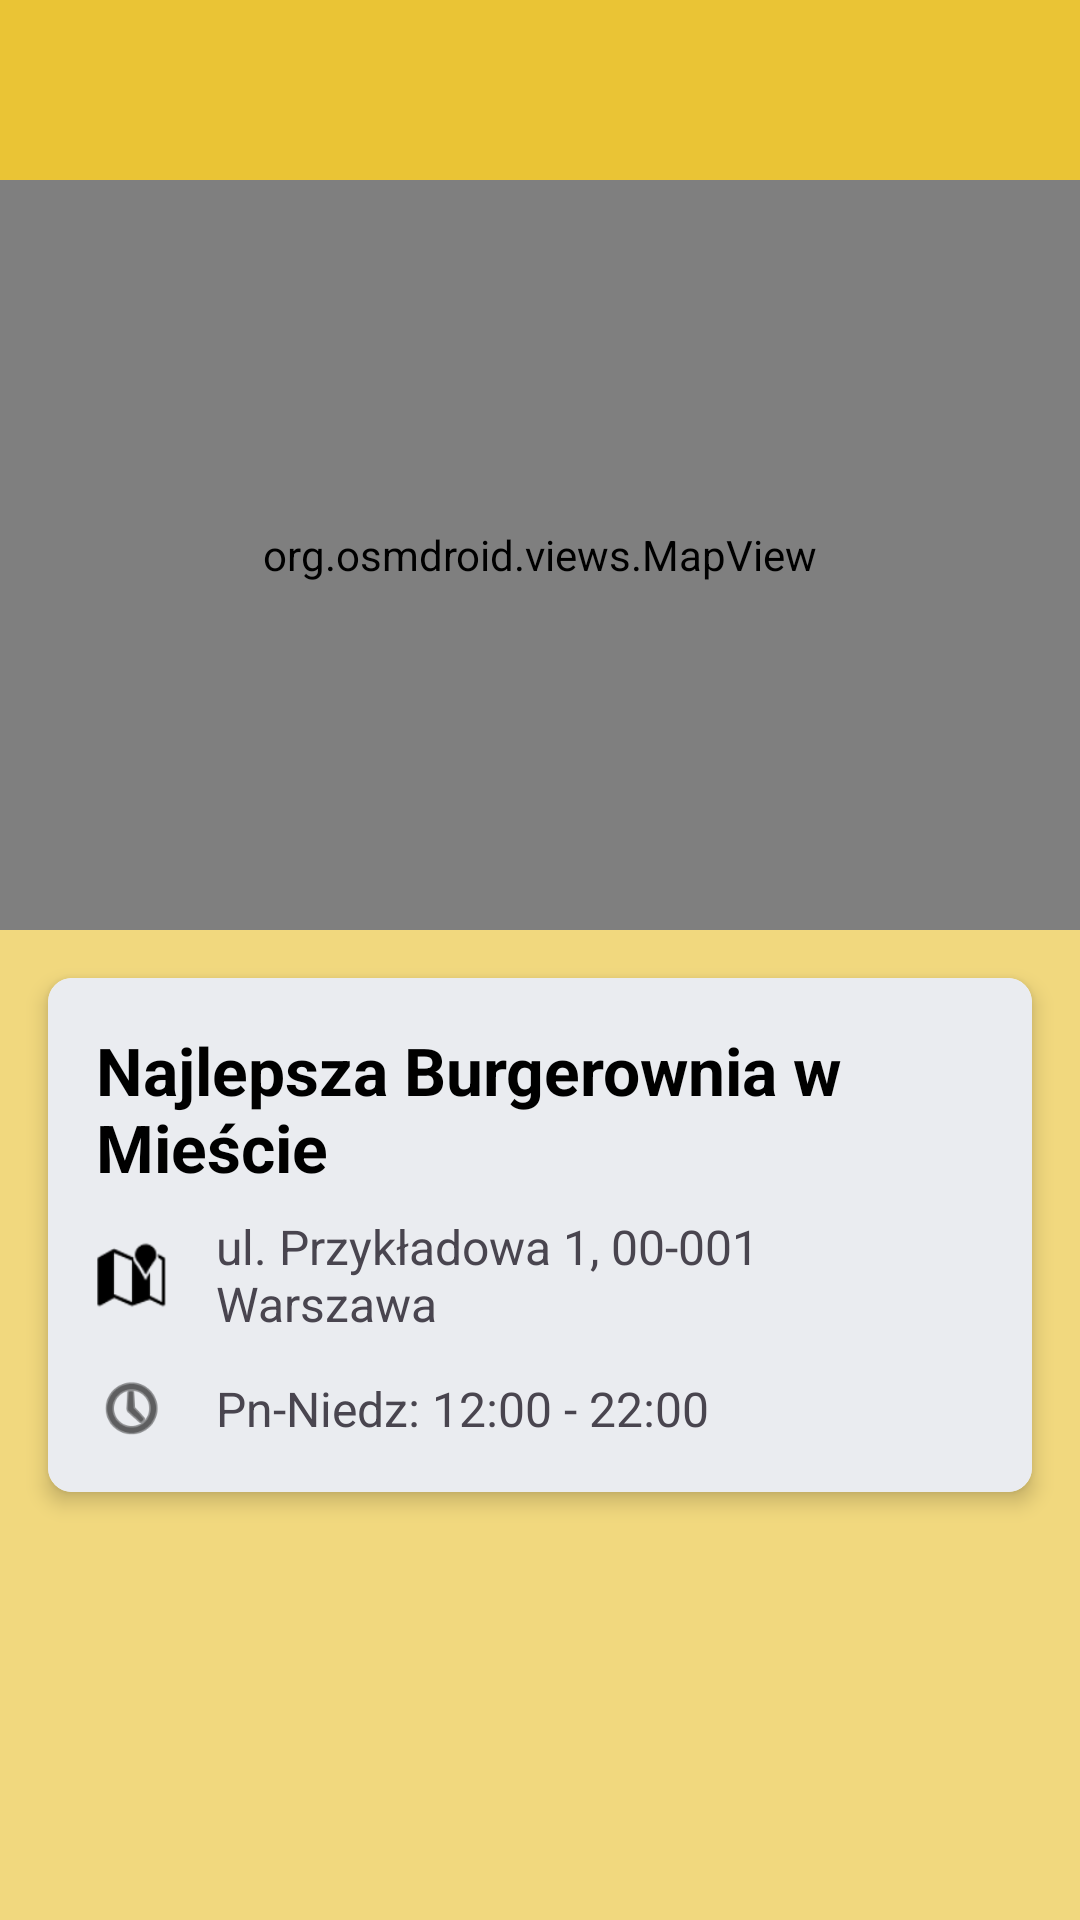

Where to tap for icons on this 1080px x 1920px app screen, as [x,y]:
map: [131,1275]
recent history: [131,1408]
